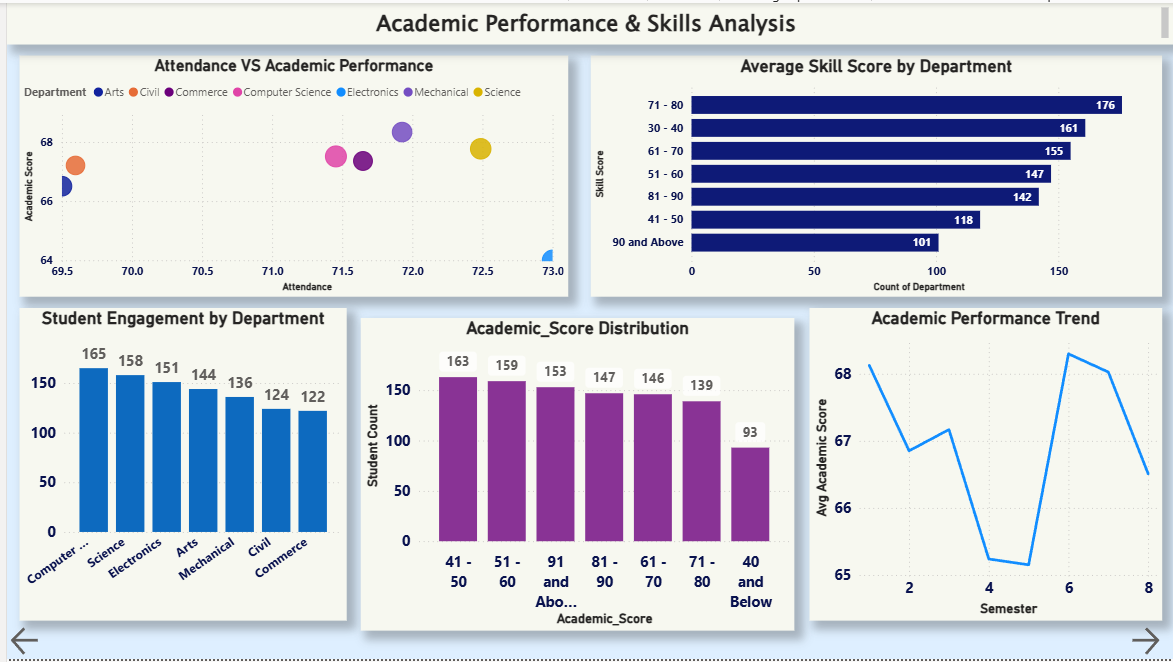

What the dashboard file says about the page in this screenshot:
{"tool":"powerbi","page":{"name":"Page 2","canvas":[1280,720],"ordinal":1},"visuals":[{"type":"scatterChart","title":"Attendance VS Academic Performance","fields":{"X":["Avg(Sheet1.Attendance_Percentage)"],"Y":["Avg(Sheet1.Academic_Score)"],"Size":["Sum(Sheet1.Skill_Score)"],"Series":["Sheet1.Department"]},"box":[13.7,57.6,602.4,264.8],"z":0},{"type":"clusteredBarChart","title":"Average Skill Score by Department","fields":{"Y":["CountNonNull(Sheet1.Department)"],"Category":["Sheet1.Skill_Score (groups)"]},"box":[640.8,57.6,627.1,264.8],"z":1000},{"type":"columnChart","title":"Student Engagement by Department","fields":{"Category":["Sheet1.Department"],"Y":["CountNonNull(Sheet1.Engagement_Level)"]},"box":[13.7,334.8,359.5,343.1],"z":2000},{"type":"lineClusteredColumnComboChart","title":" Academic_Score  Distribution","fields":{"Y":["CountNonNull(Sheet1.Student_ID)"],"Category":["Sheet1.Academic_Score (groups)"]},"box":[388.3,345.8,476.2,343.1],"z":3000},{"type":"lineChart","title":"Academic Performance Trend","fields":{"Category":["Sheet1.Semester"],"Y":["Sheet1.Avg Academic Score"]},"box":[881,334.8,387,343.1],"z":4000},{"type":"textbox","box":[0,0,1280.3,45.3],"z":5000},{"type":"actionButton","box":[0,680.6,48,39.8],"z":6000},{"type":"actionButton","box":[1229.5,680.6,50.8,39.8],"z":7000}]}

Visuals, with their boxes in screenshot pixels (x1, y1, x2, y2), scaled from the page's 1280x720 canvas onto the 1173x662 screenshot:
"Attendance VS Academic Performance" scatterChart: bbox=[13, 53, 565, 296]
"Average Skill Score by Department" clusteredBarChart: bbox=[587, 53, 1162, 296]
"Student Engagement by Department" columnChart: bbox=[13, 308, 342, 623]
" Academic_Score  Distribution" lineClusteredColumnComboChart: bbox=[356, 318, 792, 633]
"Academic Performance Trend" lineChart: bbox=[807, 308, 1162, 623]
textbox: bbox=[0, 0, 1172, 42]
actionButton: bbox=[0, 626, 44, 661]
actionButton: bbox=[1127, 626, 1172, 661]
